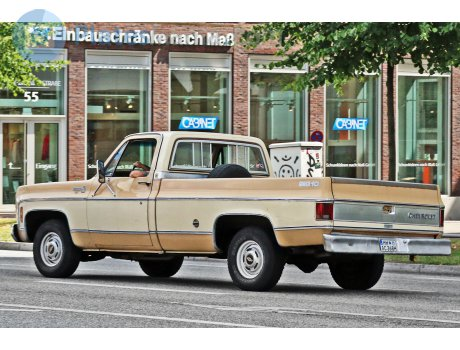License Plates: (381, 239, 394, 247)
